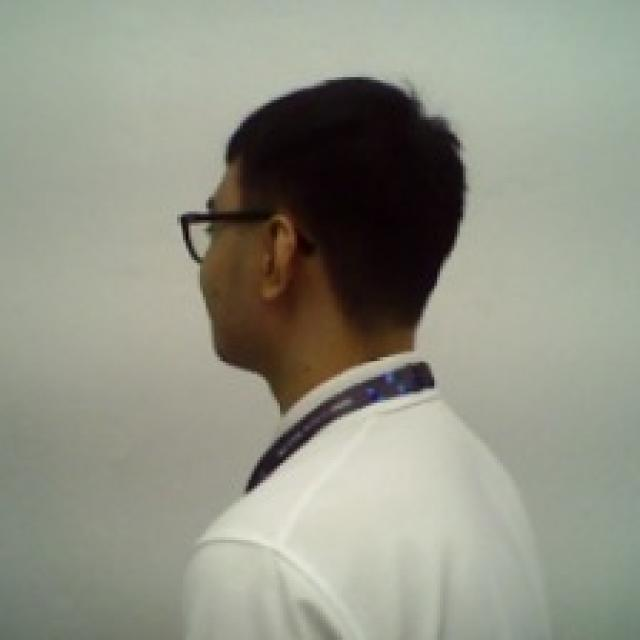no_gloves: (212, 71, 475, 337)
